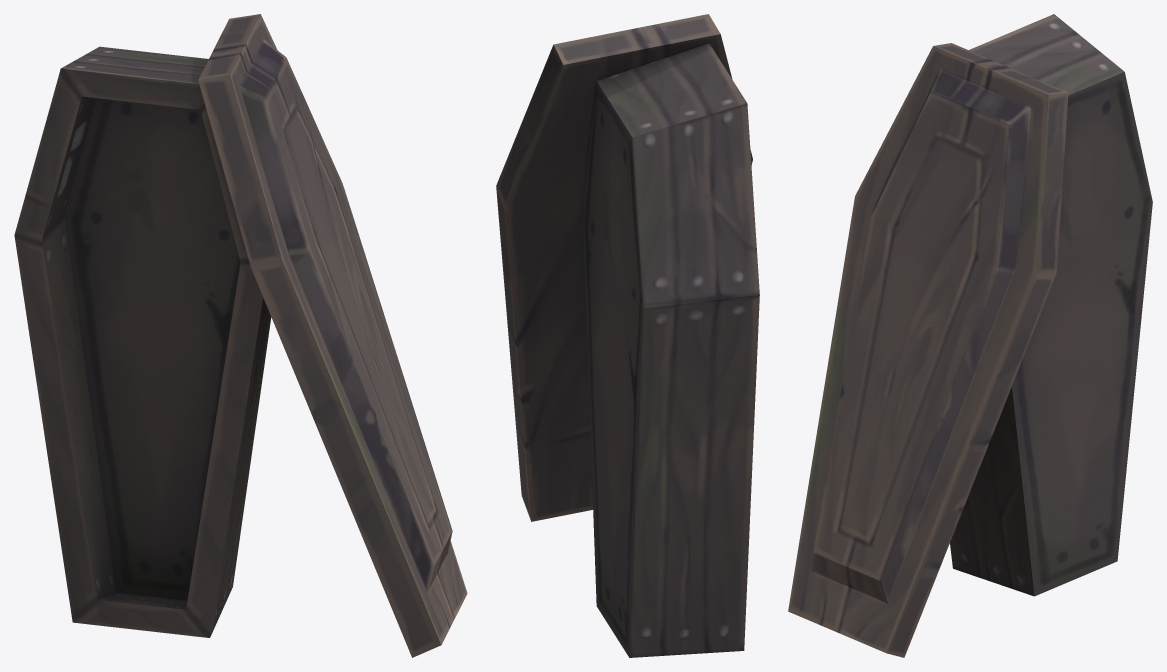
File: Coffin_v2.fbx
3 renders of one model, left to right at view 1: azimuth 30°, elevation 25°; view 2: azimuth 150°, elevation 25°; view 3: azimuth 270°, elevation 25°, orthographic. The views are drawn at different scales.
Visible parts, largest first — view 1: Coffin_v2; view 2: Coffin_v2; view 3: Coffin_v2.
Boxes of the visible parts, x1,y1,x2,y2 form: Coffin_v2: [14, 14, 467, 657]; Coffin_v2: [496, 14, 759, 657]; Coffin_v2: [788, 14, 1152, 657].
Bounding box in the file's own units: 21.26 × 33.43 × 20.97.
